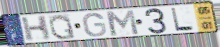3: (143, 7, 168, 35)
G: (81, 12, 108, 38)
H: (20, 15, 52, 43)
L: (170, 7, 196, 32)
M: (104, 9, 141, 37)
Q: (47, 14, 77, 41)
